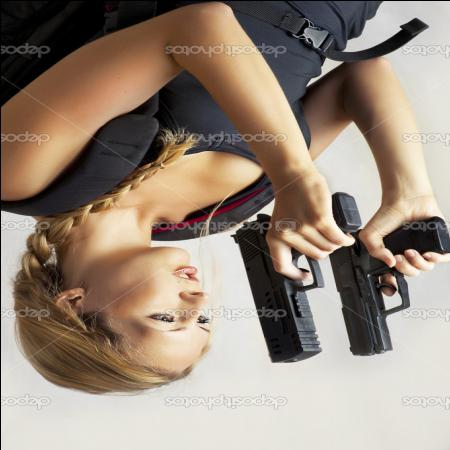Pistol: (230, 190, 362, 364), (320, 215, 449, 357)
